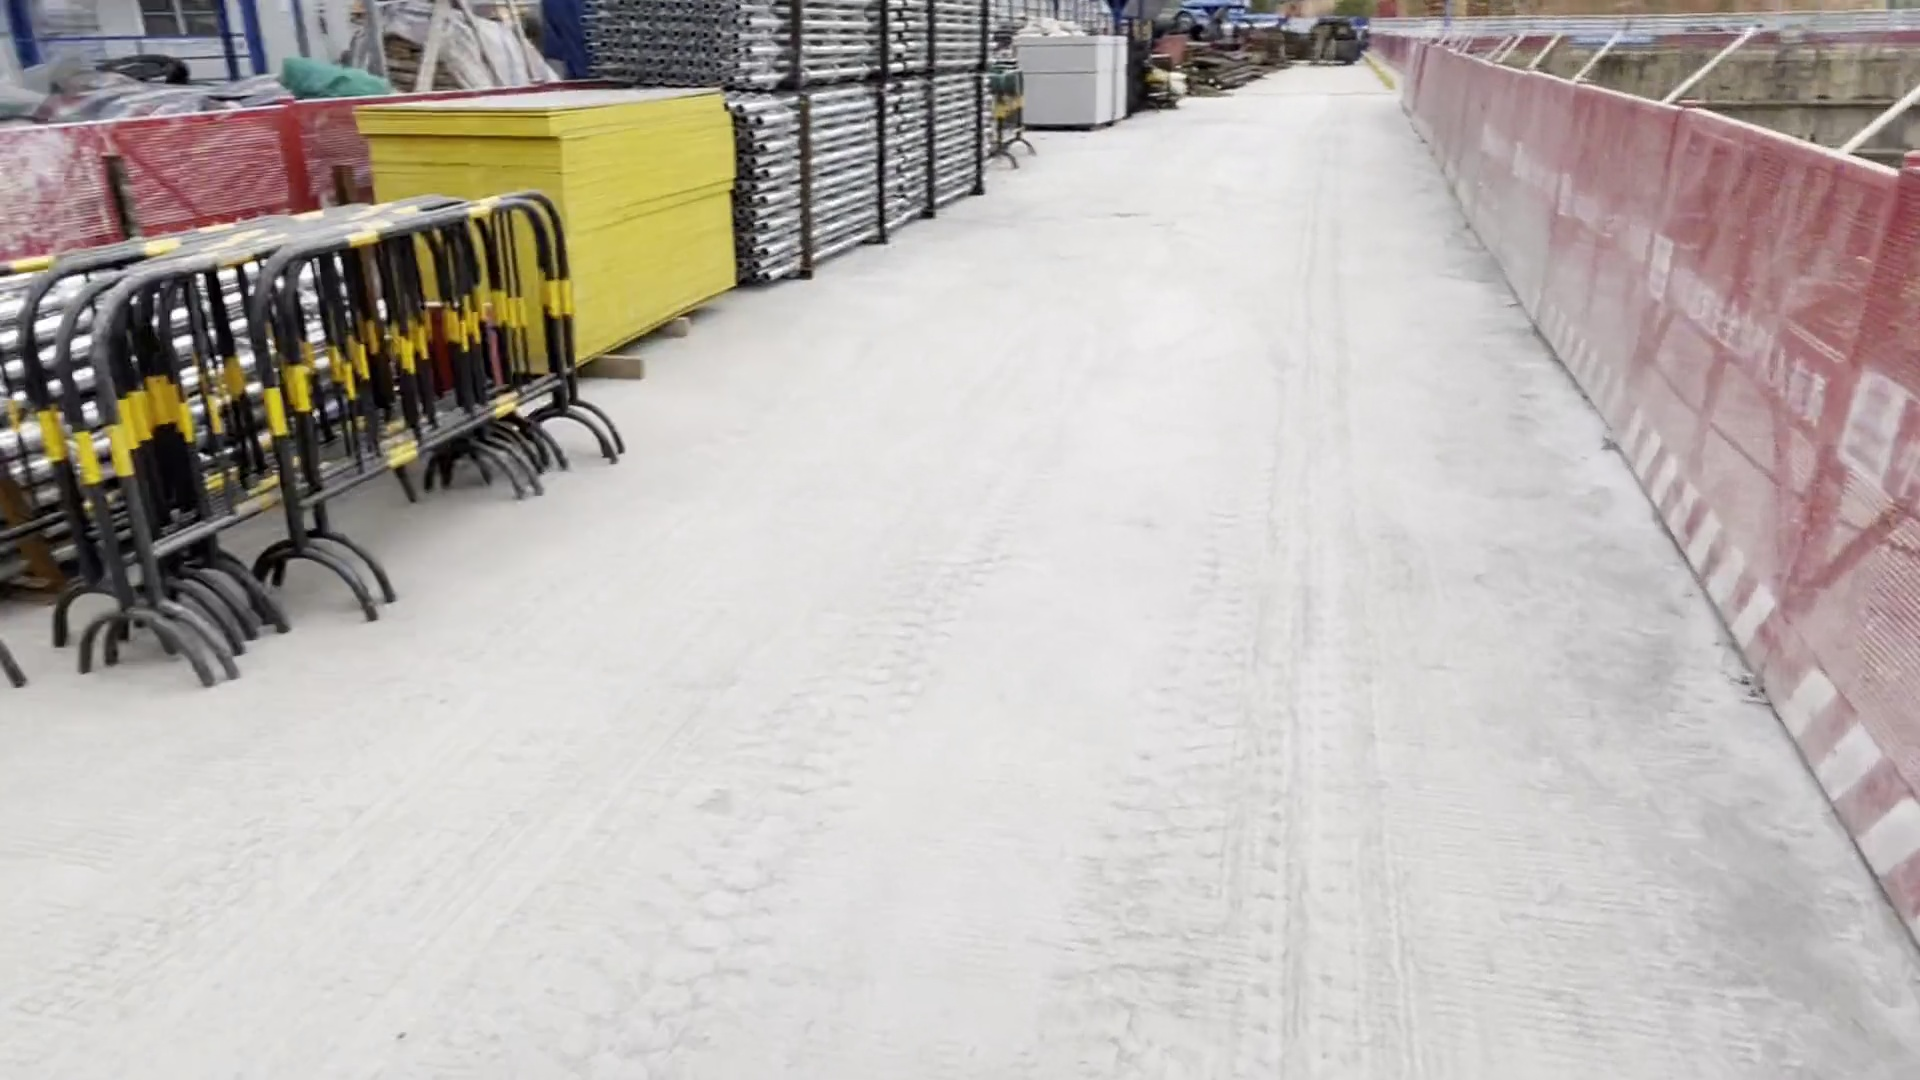board: (357, 78, 756, 369)
brick: (1011, 17, 1138, 135)
fence: (1575, 86, 1920, 939), (49, 191, 593, 637)
scaffold: (736, 82, 1022, 286), (578, 1, 1007, 76)
